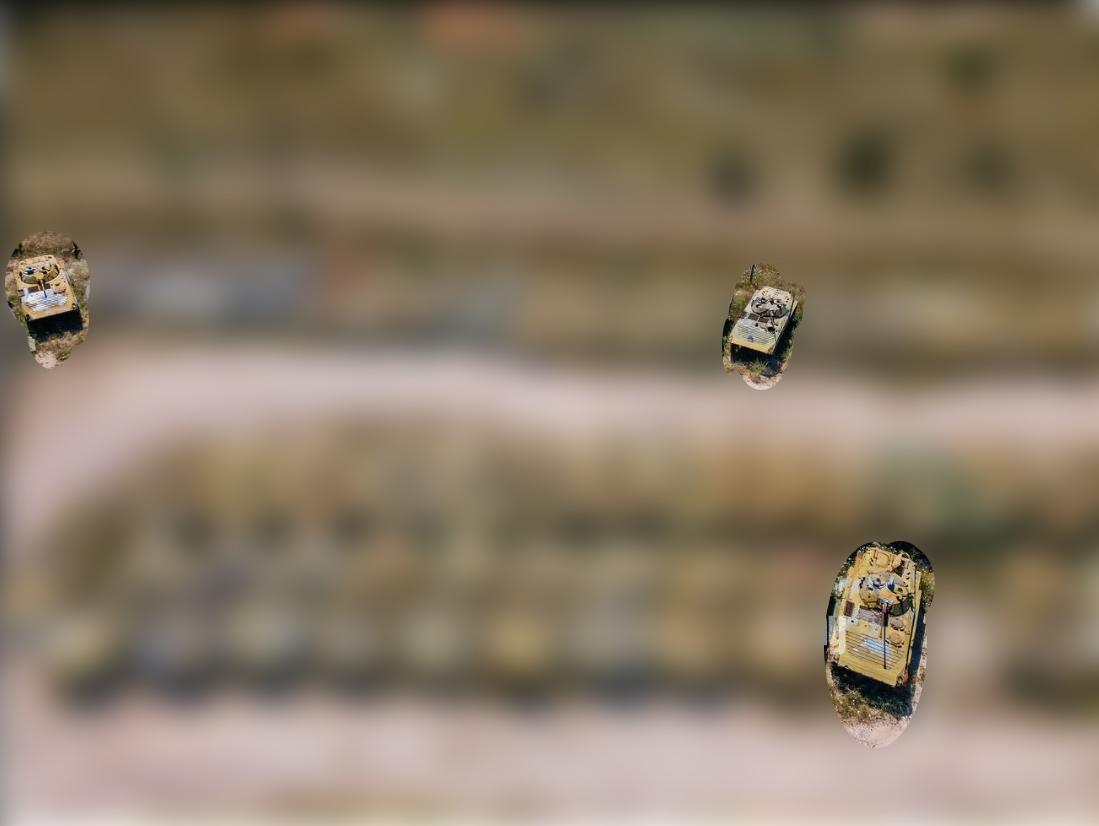armored_car: (828, 542, 932, 695), (4, 232, 90, 369), (723, 264, 806, 391)
